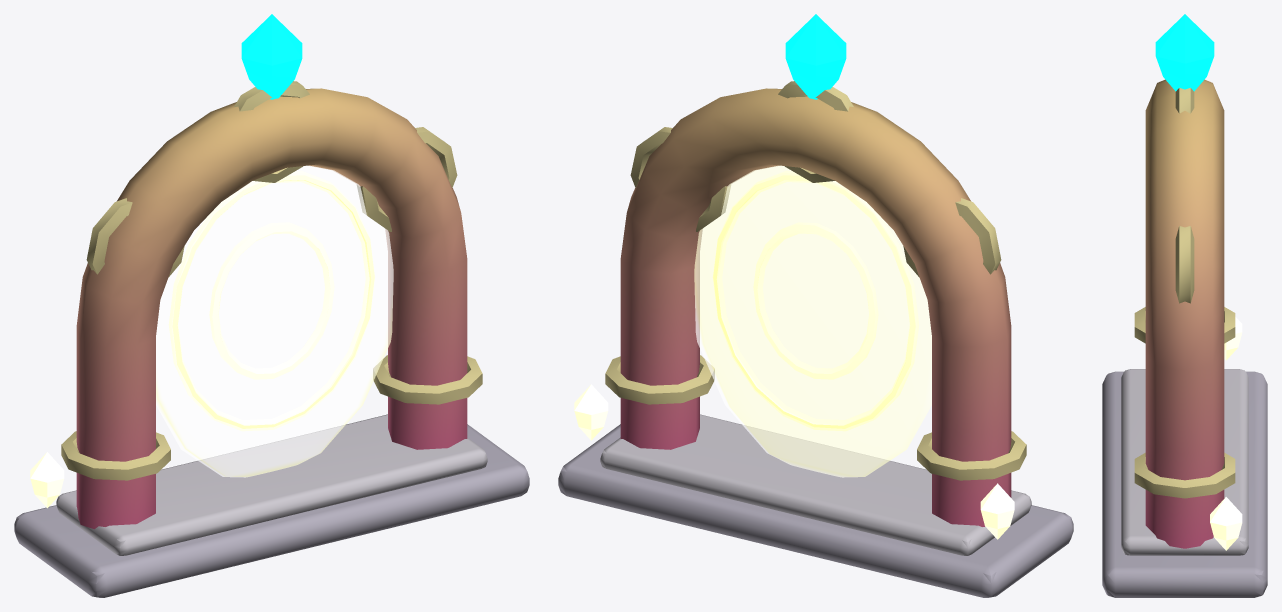
Rendered from seasonPortal.glb.
The picture shows the model from 3 angles, left to right: view 1: azimuth 30°, elevation 25°; view 2: azimuth 150°, elevation 25°; view 3: azimuth 270°, elevation 25°; orthographic projection. The views are drawn at different scales.
Parts seen in each view (by area): view 1: Body, Glow_FFE066_T35, Glow_FFB347, Glow_00E5FF, Glow_FFE066; view 2: Body, Glow_FFE066_T35, Glow_FFB347, Glow_00E5FF, Glow_FFE066; view 3: Body, Glow_00E5FF, Glow_FFE066.
Boxes of the visible parts, bbox=[...] form: Body: bbox=[14, 81, 529, 597]; Glow_FFE066_T35: bbox=[156, 165, 393, 477]; Glow_FFB347: bbox=[169, 171, 374, 430]; Glow_00E5FF: bbox=[241, 14, 302, 99]; Glow_FFE066: bbox=[30, 452, 64, 508]; Body: bbox=[558, 81, 1073, 597]; Glow_FFE066_T35: bbox=[694, 165, 931, 477]; Glow_FFB347: bbox=[713, 171, 918, 430]; Glow_00E5FF: bbox=[785, 14, 846, 99]; Glow_FFE066: bbox=[574, 384, 1014, 539]; Body: bbox=[1102, 79, 1267, 597]; Glow_00E5FF: bbox=[1155, 14, 1214, 91]; Glow_FFE066: bbox=[1210, 306, 1242, 550].
Size of the model in its own units: 10.91 by 12 by 3.69.
